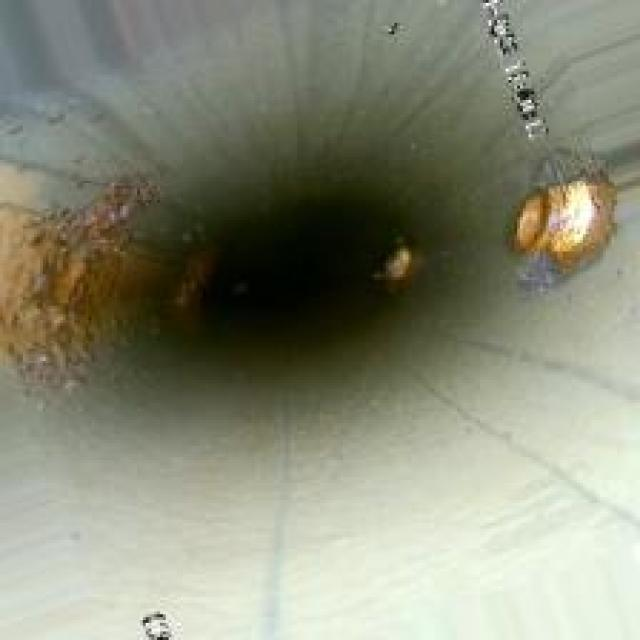ferrule: (500, 171, 620, 283), (366, 231, 423, 283)
